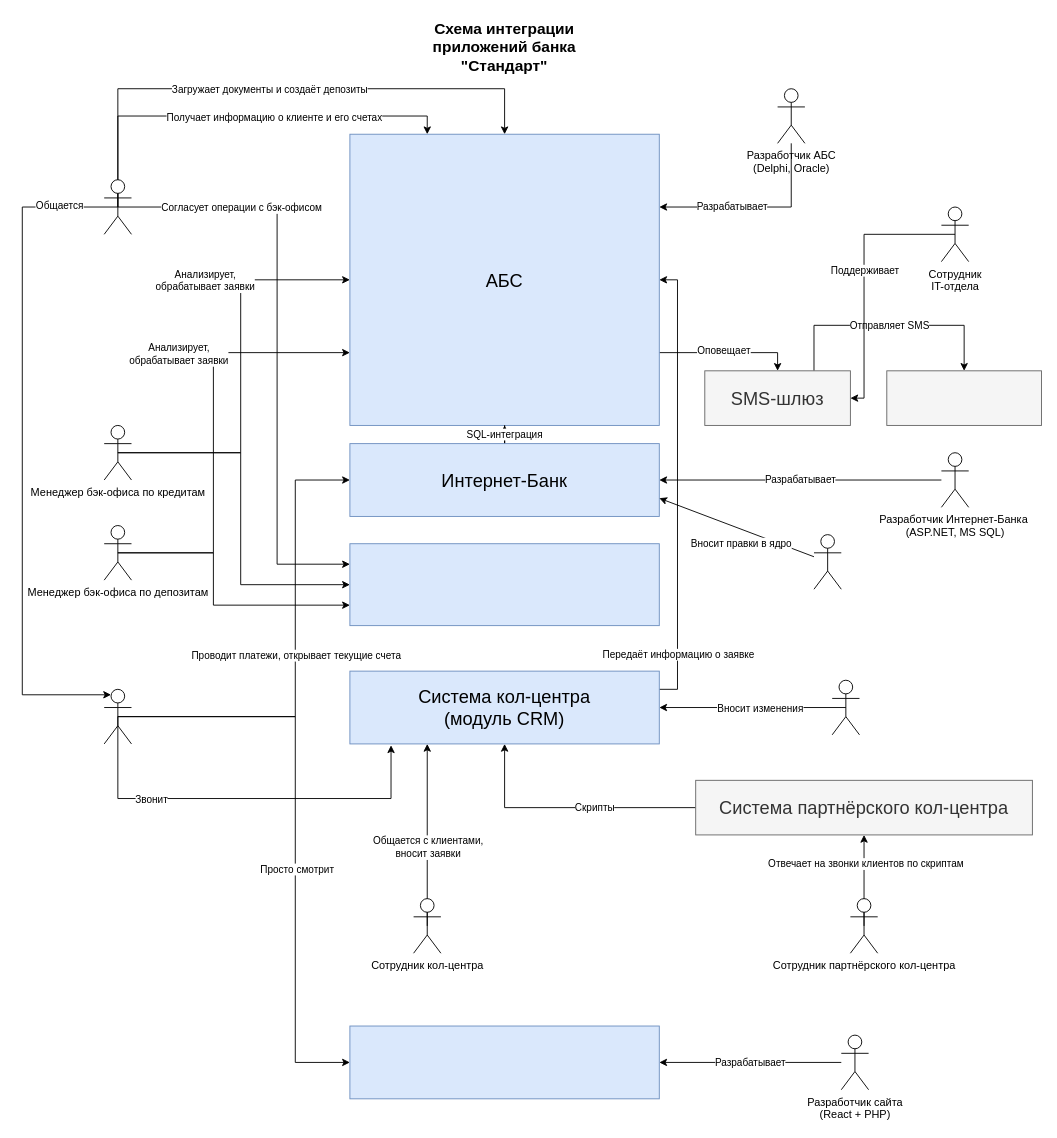
Some shapes in this 1057 by 1138 pixel diagram are drawn without their labels. Each missing label, with the centre of its shape:
"email-based взаимодействие по утверждённым процедурам" goes at pixel 504 584.
"Клиент" goes at pixel 117 716.
"Менеджер фронт-офиса" goes at pixel 117 206.
"Разработчик кол-центра (Java Spring Boot, PostgreSQL, React)" goes at pixel 845 707.
"Разработчик подрядчика Интернет-Банка" goes at pixel 827 561.
"Сайт" goes at pixel 504 1062.
"Телеком-оператор" goes at pixel 963 397.
